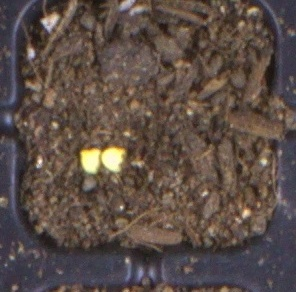chilli seed: (102, 146, 126, 173), (80, 147, 101, 174)
